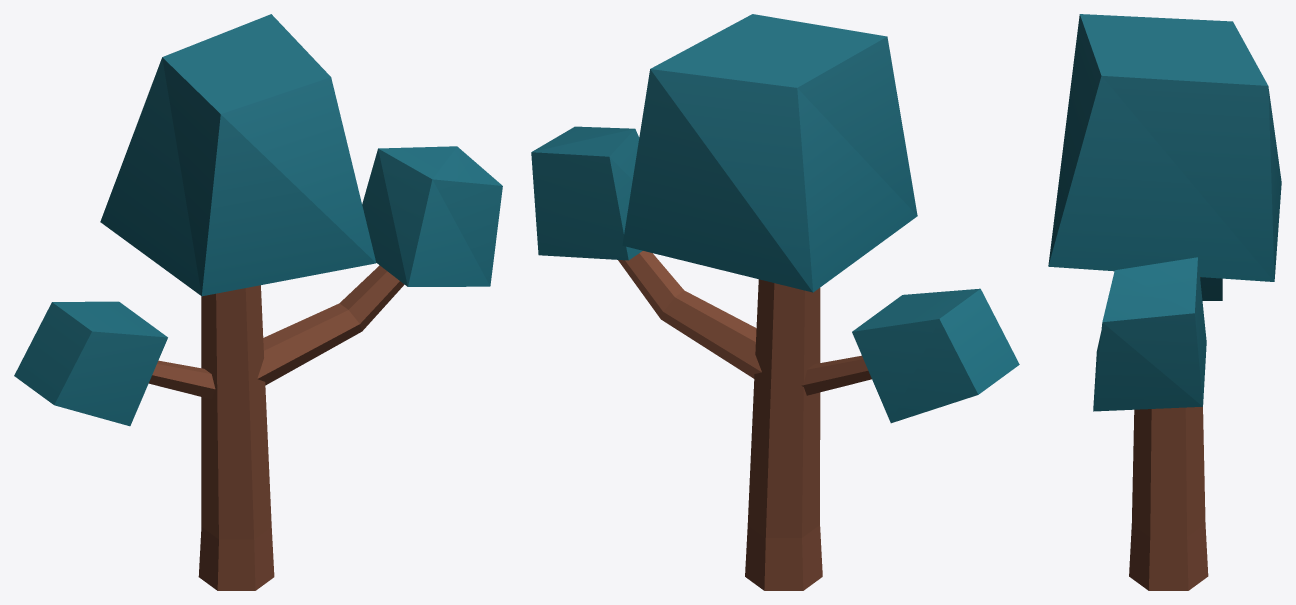
Rendered from Tree_44_gradient_blue_vc.fbx.
3 views of the same model, side by side, from view 1: azimuth 30°, elevation 25°; view 2: azimuth 150°, elevation 25°; view 3: azimuth 270°, elevation 25° (orthographic). The views are drawn at different scales.
Parts seen in each view (by area): view 1: Tree_44_gradient_blue_vc; view 2: Tree_44_gradient_blue_vc; view 3: Tree_44_gradient_blue_vc.
Part boxes in pixels (x1,y1,x2,y2): Tree_44_gradient_blue_vc: (14,14,502,590); Tree_44_gradient_blue_vc: (531,14,1019,590); Tree_44_gradient_blue_vc: (1048,14,1281,590).
Size of the model in its own units: 162 by 179 by 70.99.
